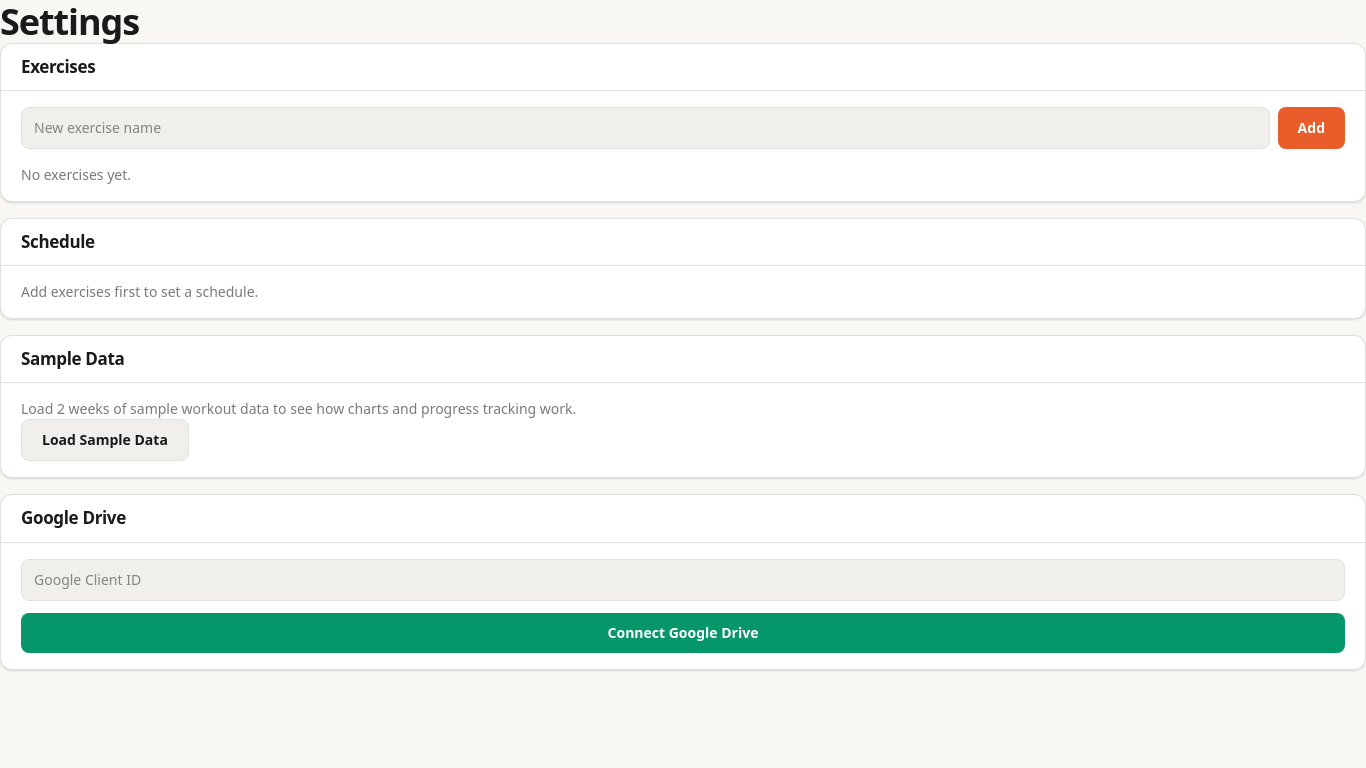
Settings - Exercise List › removes an exercise
Type "Bench Press" into the field with placeholder "New exercise name". click: (645, 128)
box: [21,107,1270,149]
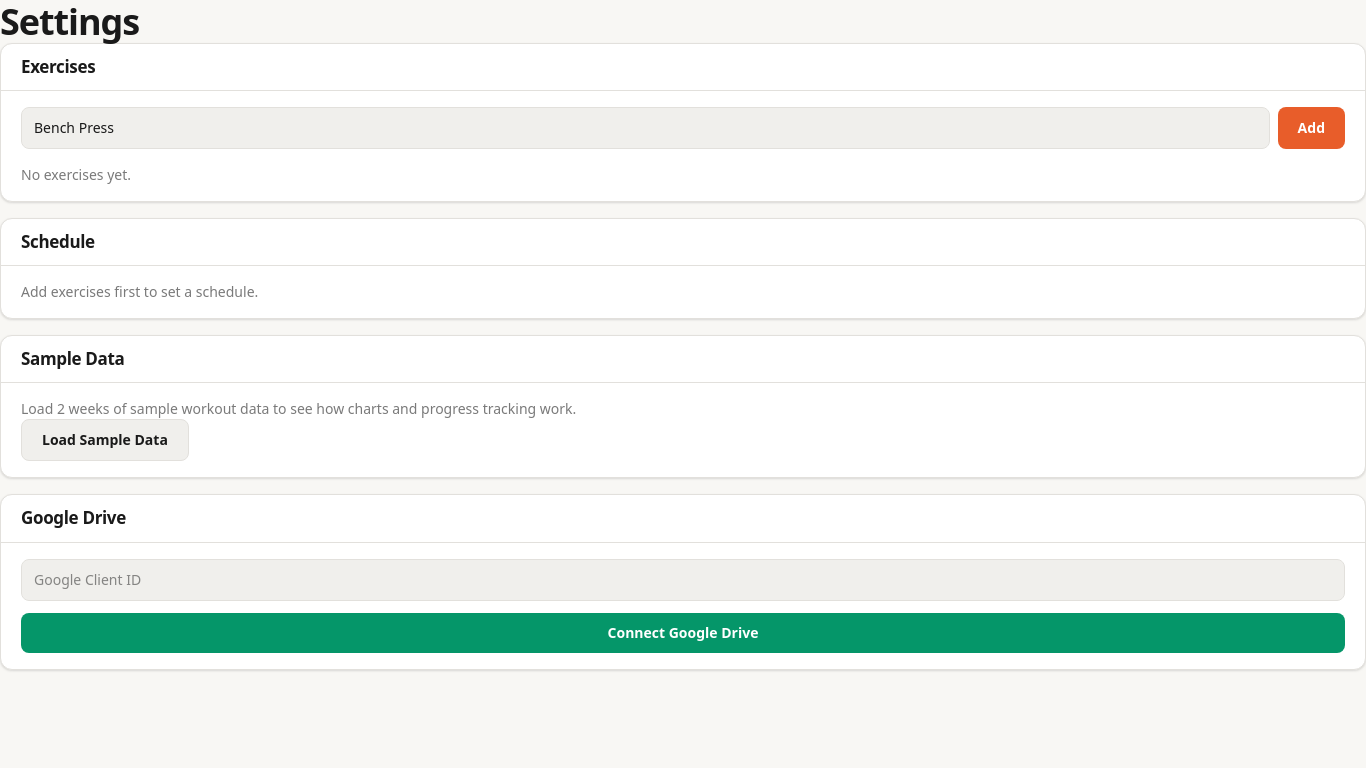
Click the button "Add". click: (1311, 128)
box: [1278,107,1345,149]
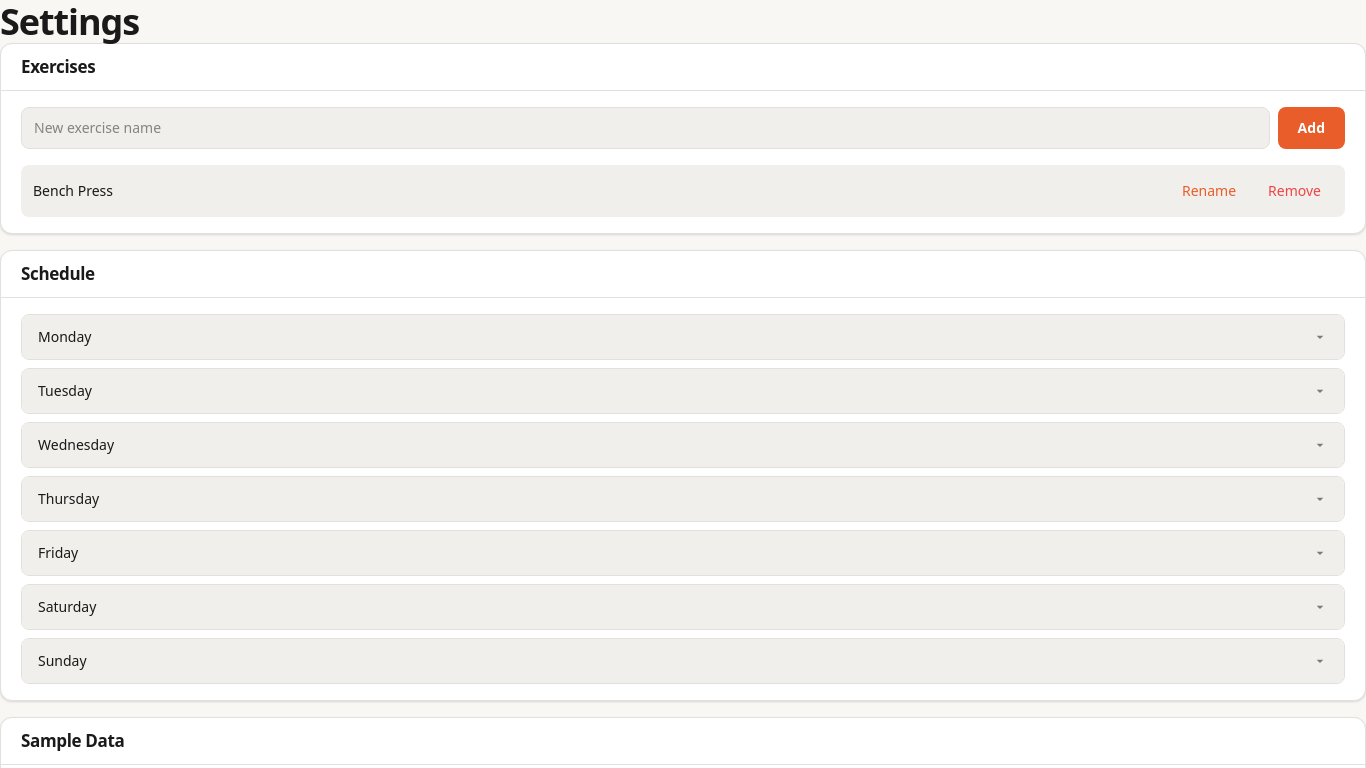
Click the button "Remove". click: (1295, 191)
box: [1256,175,1333,207]
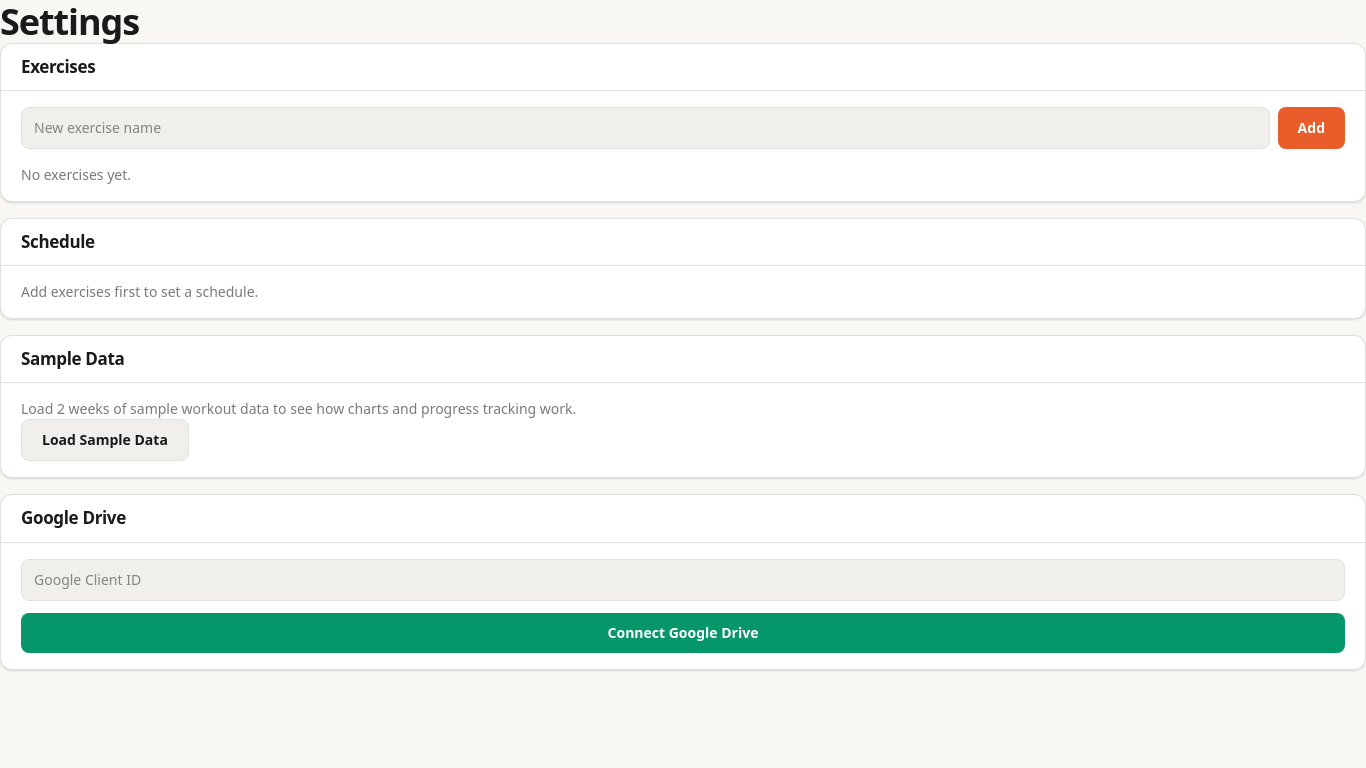
Expected: the text "Bench Press" is gone
Expected: the text "No exercises yet." is shown, [21,165,131,184]
